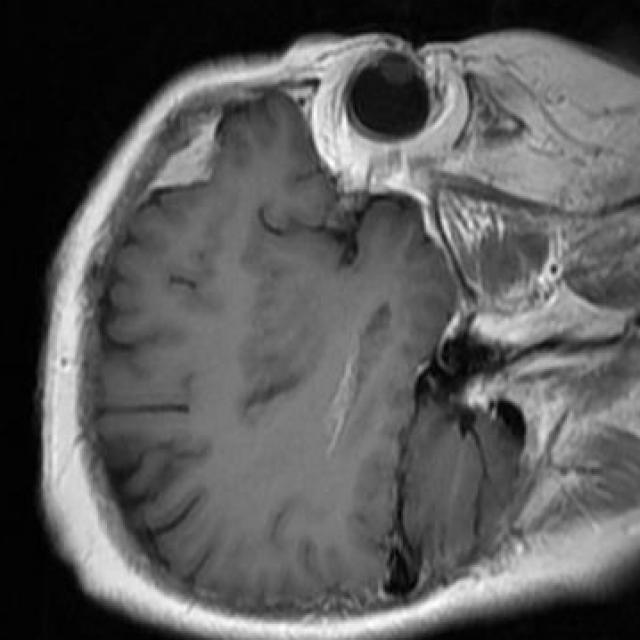meningioma: (150, 119, 219, 193)
